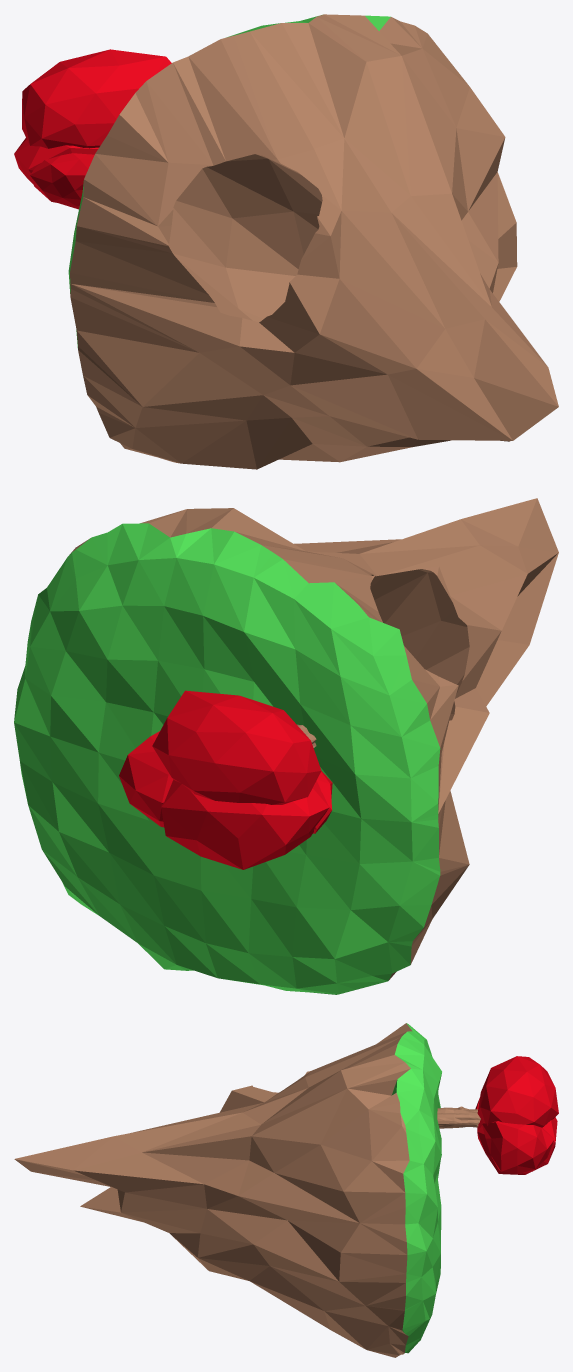
Rendered from island_tree.glb.
3 renders of one model, top to bottom at view 1: azimuth 30°, elevation 25°; view 2: azimuth 150°, elevation 25°; view 3: azimuth 270°, elevation 25°, orthographic. The views are drawn at different scales.
Visible parts, largest first — view 1: Island_IslandGrass_0.001; view 2: Island_IslandGrass_0.001; view 3: Island_IslandGrass_0.001.
Boxes of the visible parts, <box> form: Island_IslandGrass_0.001: <box>14,14,558,469</box>; Island_IslandGrass_0.001: <box>14,498,558,994</box>; Island_IslandGrass_0.001: <box>14,1023,558,1357</box>.
Bounding box in the file's own units: 36.48 × 37.03 × 62.75.
